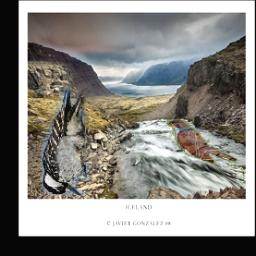Cuckoo: (165, 116, 238, 166)
Woodpecker: (43, 90, 101, 196)
